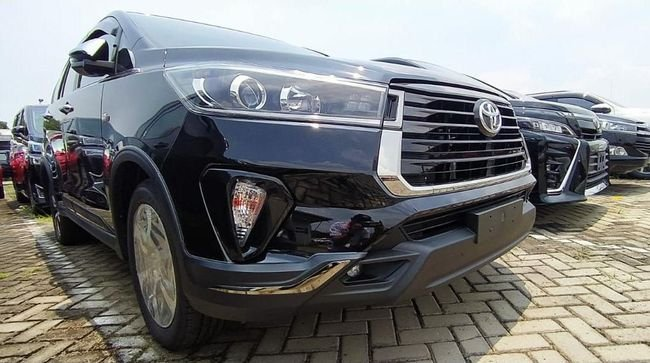mobil: (57, 20, 543, 330)
